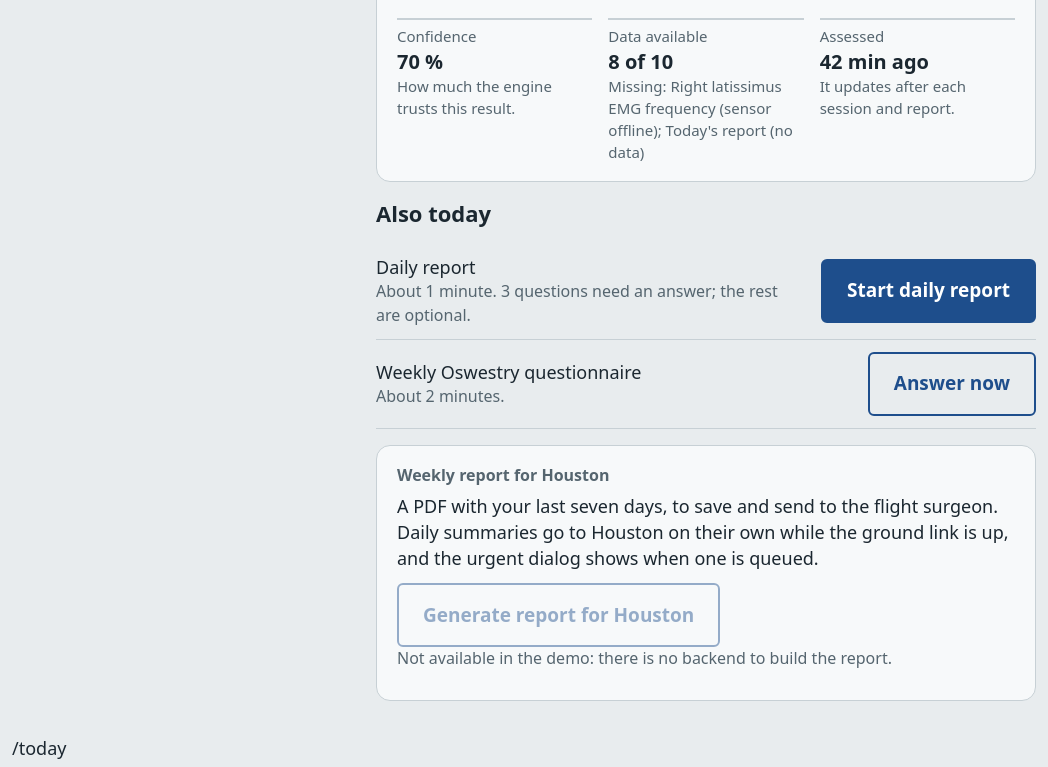
Test: lists what else to do today; the buttons navigate
(page scrolled)
Check: the heading "Also today" is shown, box [376,198,491,228]
What coordinates should you click on to do the following:
click the button "Answer now"
I would click on:
 (952, 384)
Its box is [868,352,1036,416].
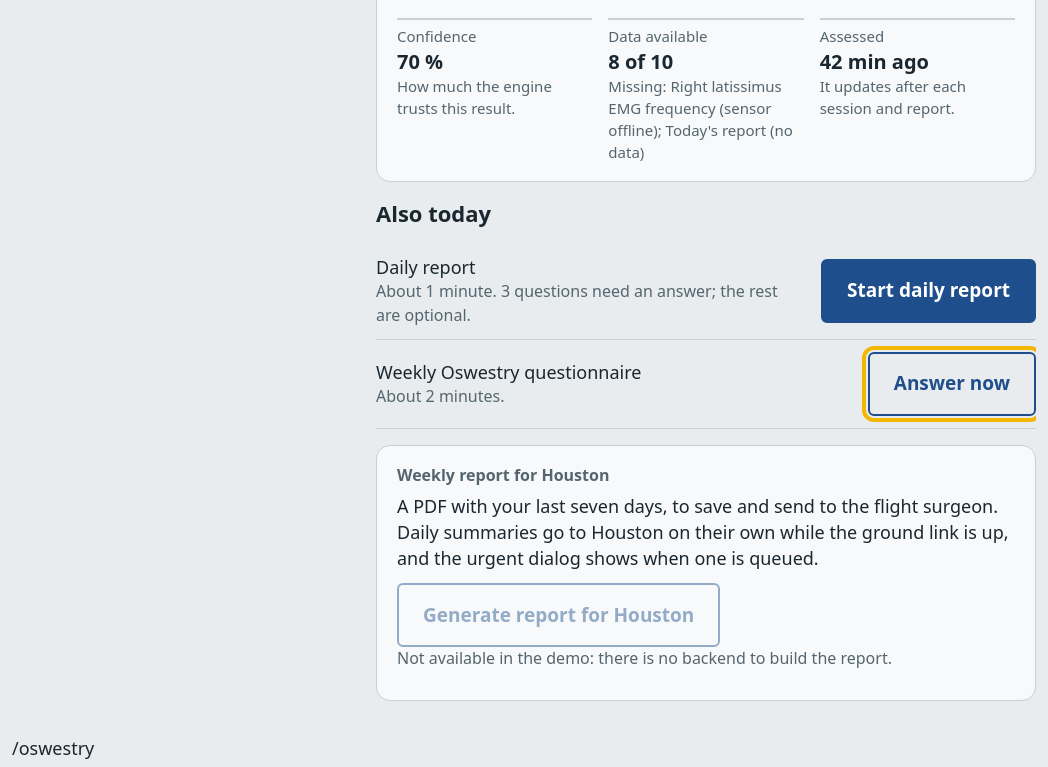
Check: the text with test id "where" reads "/oswestry", box [12,736,94,760]
